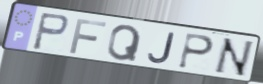F: (67, 17, 109, 55)
J: (146, 32, 177, 66)
N: (211, 37, 257, 79)
P: (30, 11, 70, 53), (176, 31, 216, 71)
Q: (106, 24, 144, 64)
